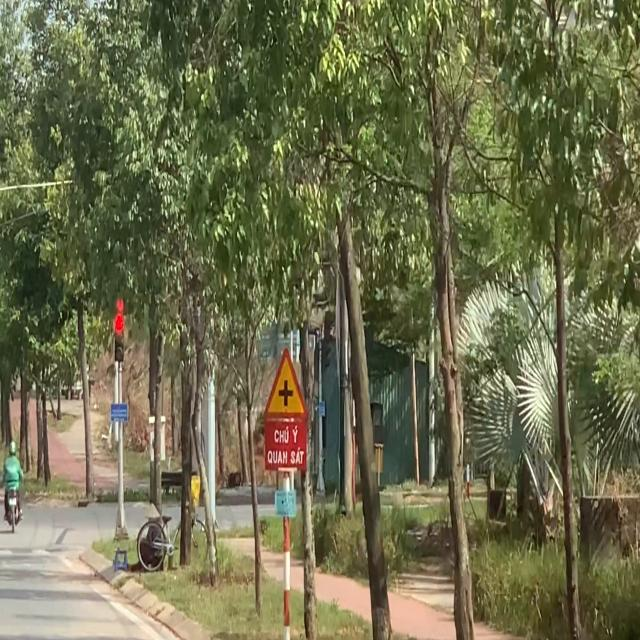Duong giao nhau: (264, 347, 307, 419)
